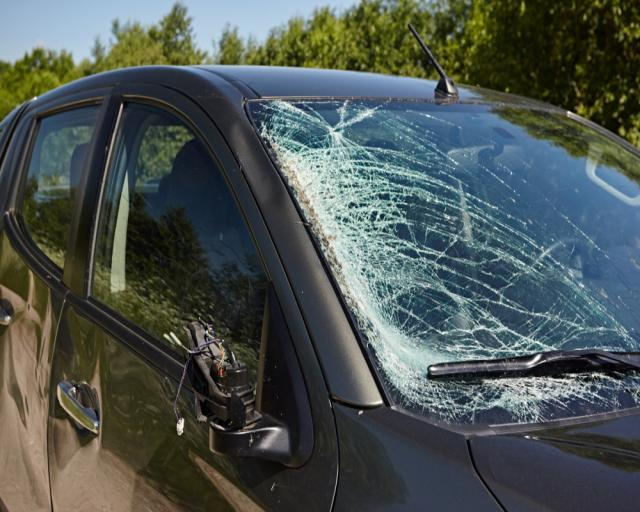dent: (49, 305, 104, 495), (0, 268, 52, 423)
glass shatter: (247, 98, 640, 424)
